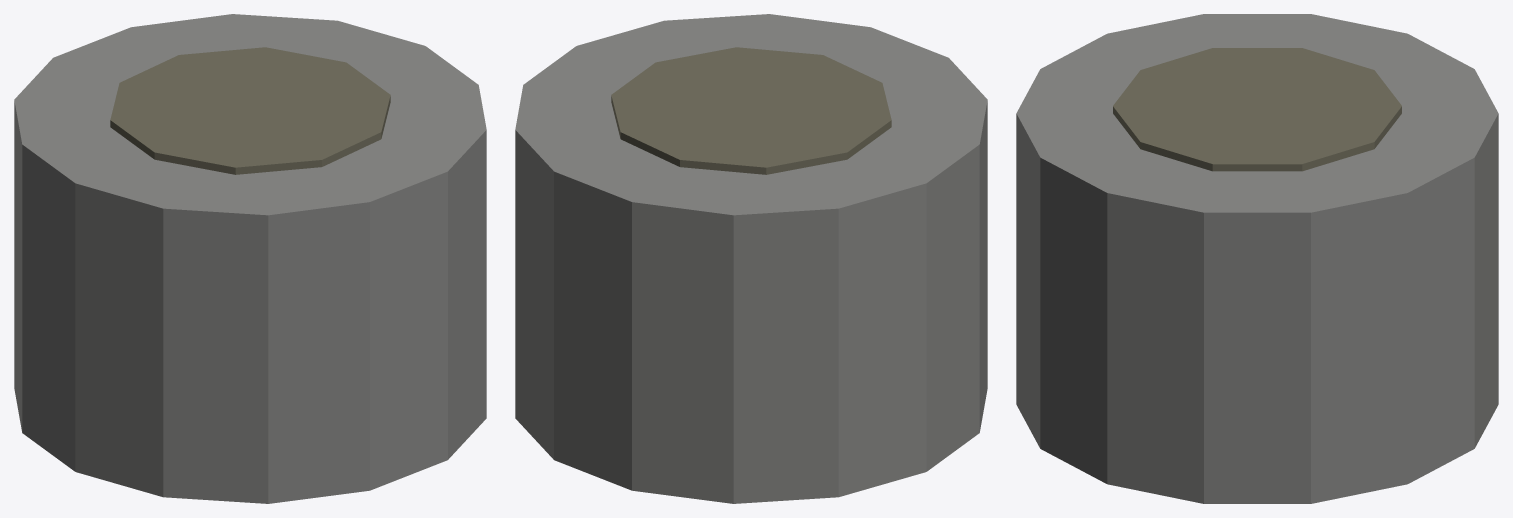
Rendered from item_bandage.glb.
3 renders of one model, left to right at view 1: azimuth 30°, elevation 25°; view 2: azimuth 150°, elevation 25°; view 3: azimuth 270°, elevation 25°, orthographic.
Parts seen in each view (by area): view 1: body; view 2: body; view 3: body.
Boxes of the visible parts, <box> form: body: <box>14,14,486,503</box>; body: <box>515,14,987,503</box>; body: <box>1016,14,1498,503</box>.
Bounding box in the file's own units: 0.0585 × 0.042 × 0.06.
3 materials, 3 textured.
